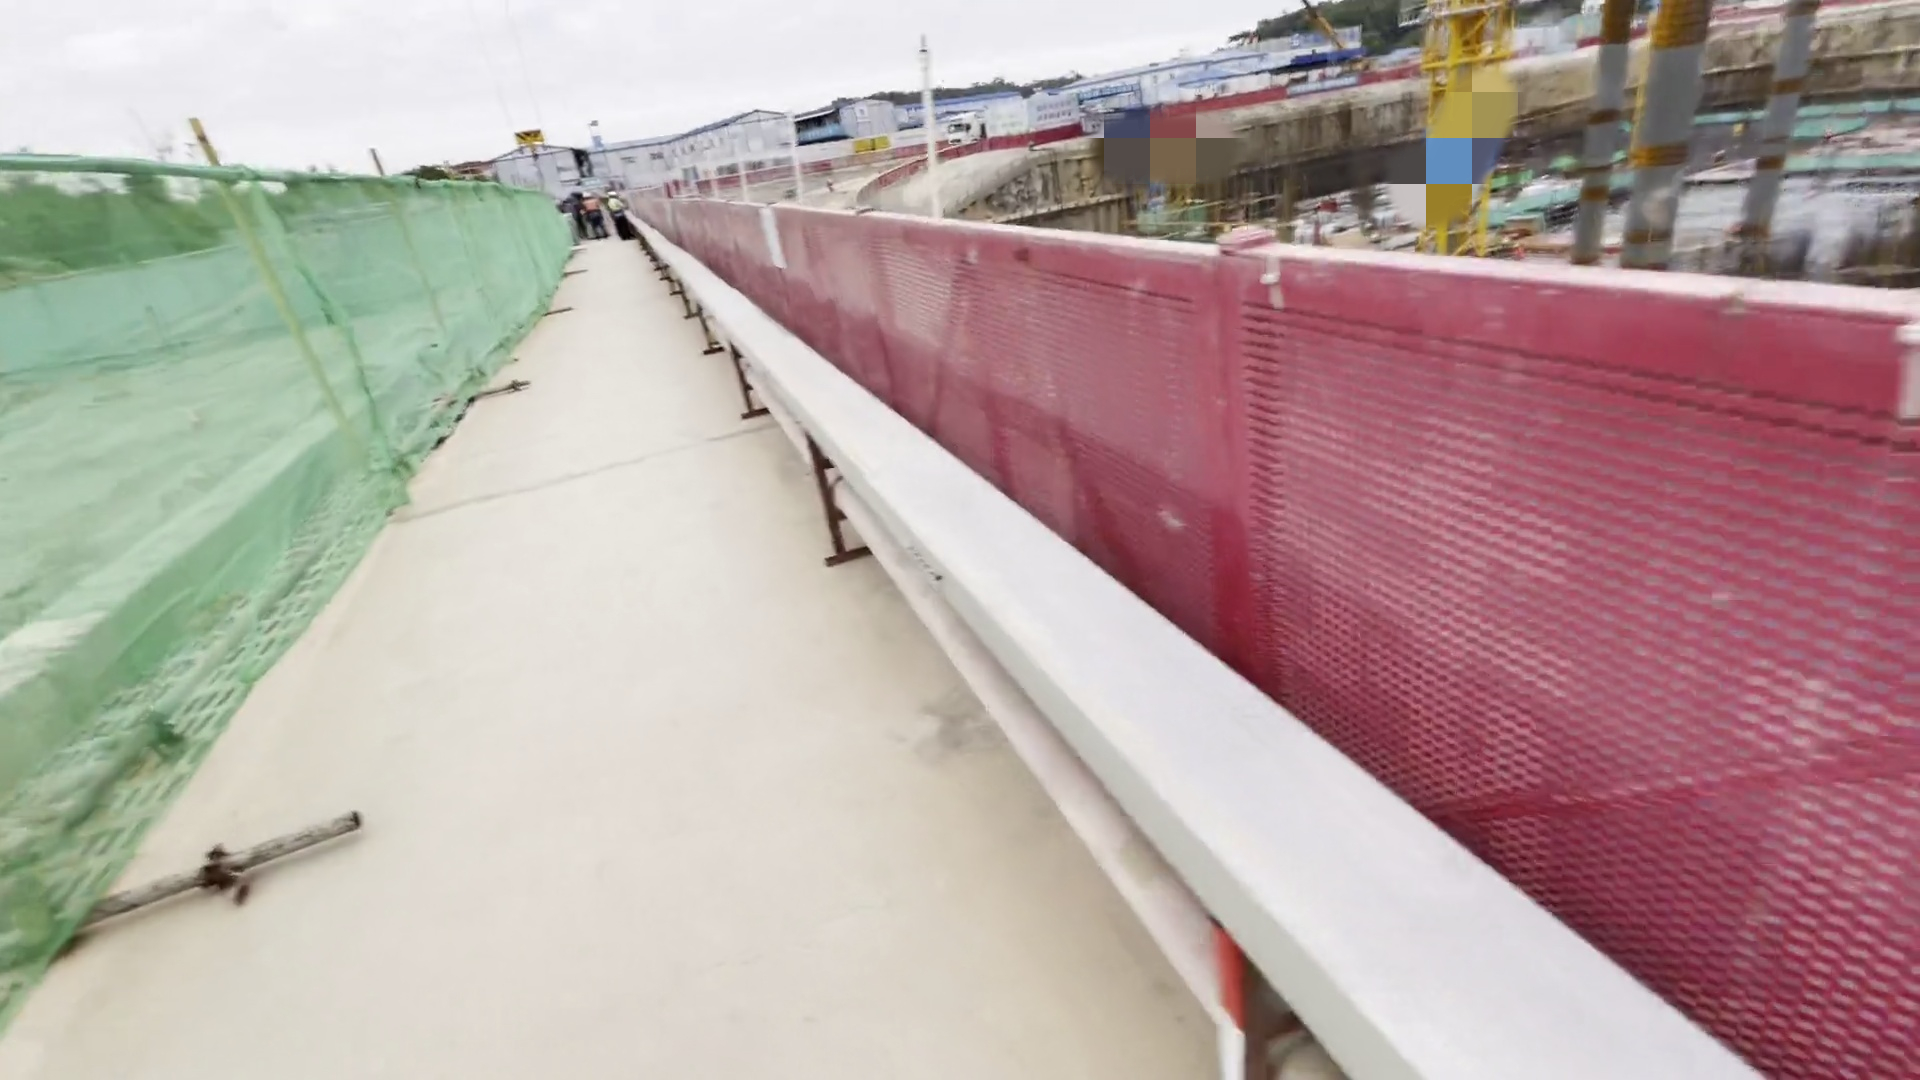fence: (595, 163, 1762, 945)
hook: (499, 120, 554, 171)
person: (574, 182, 608, 251), (606, 186, 639, 248)
